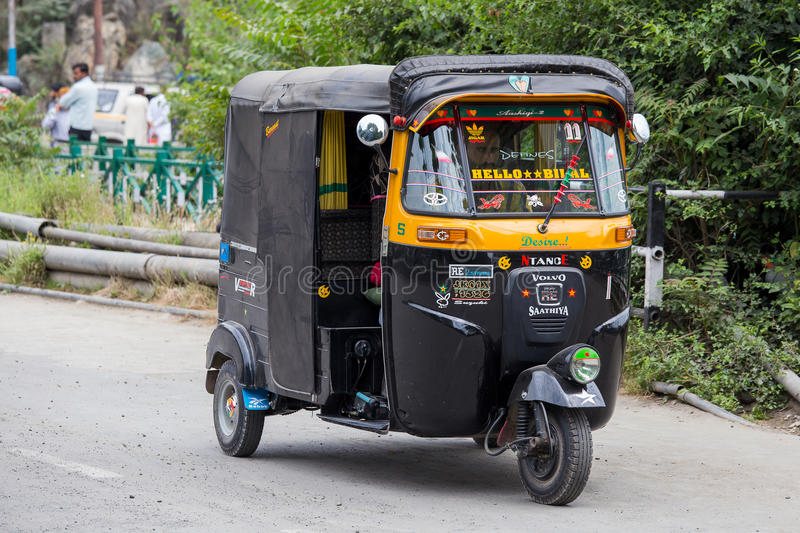auto: (200, 65, 665, 511)
